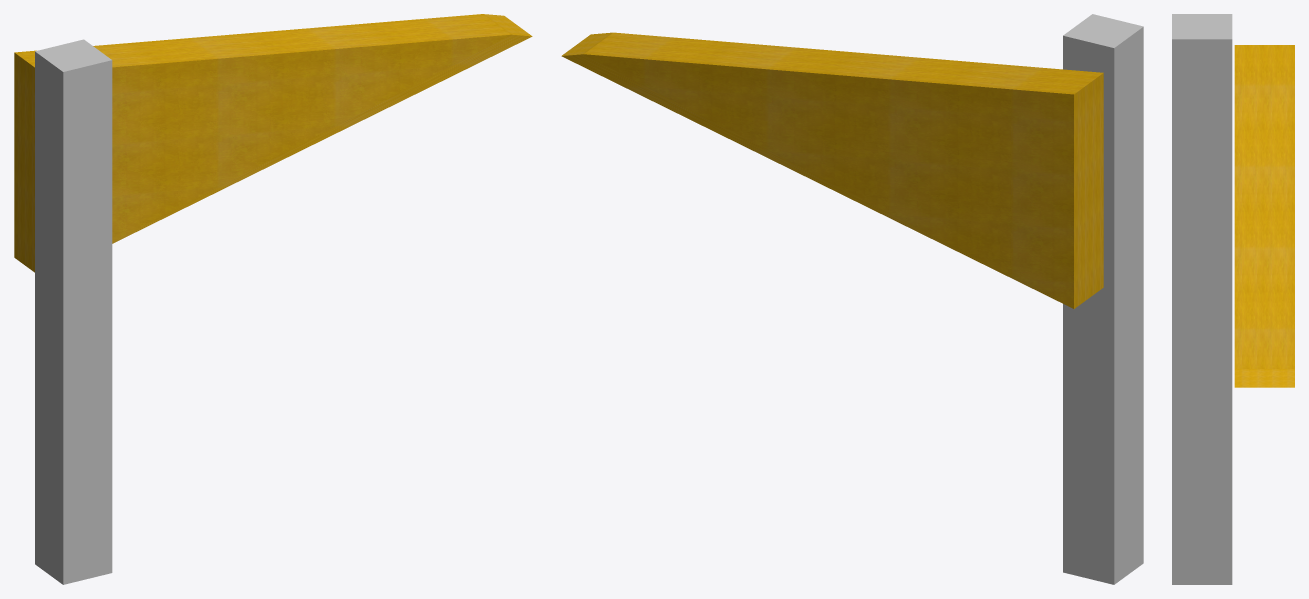
The model's file is StagePoint.fbx.
3 renders of one model, left to right at view 1: azimuth 30°, elevation 25°; view 2: azimuth 150°, elevation 25°; view 3: azimuth 270°, elevation 25°, orthographic. The views are drawn at different scales.
Parts seen in each view (by area): view 1: Box002, Box001; view 2: Box002, Box001; view 3: Box001, Box002.
Part boxes in pixels (left/top/right/bottom): Box002: left=14, top=14, right=532, bottom=272; Box001: left=35, top=39, right=112, bottom=584; Box002: left=561, top=32, right=1103, bottom=308; Box001: left=1063, top=14, right=1143, bottom=584; Box001: left=1172, top=14, right=1232, bottom=584; Box002: left=1234, top=45, right=1294, bottom=387.
Bounding box in the file's own units: 91.62 × 18.37 × 90.
